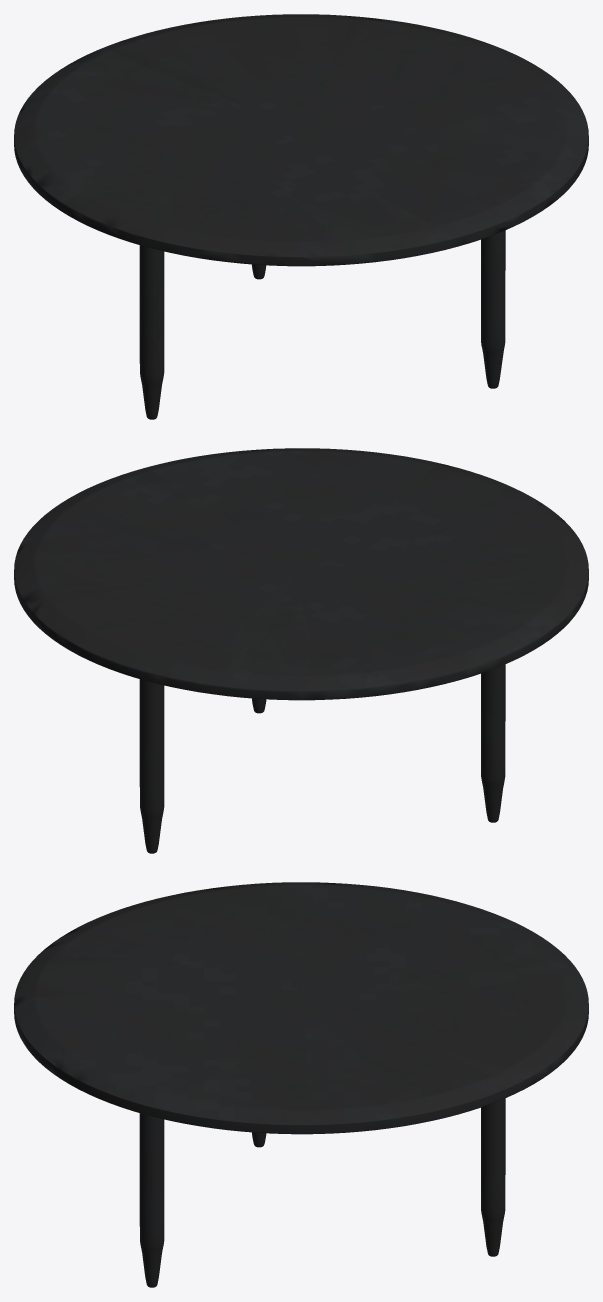
The model's file is B07TPNG61L.glb.
3 views of the same model, one above another, from view 1: azimuth 30°, elevation 25°; view 2: azimuth 150°, elevation 25°; view 3: azimuth 270°, elevation 25° (orthographic).
Visible parts, largest first — view 1: B07TPNG61L; view 2: B07TPNG61L; view 3: B07TPNG61L.
Part boxes in pixels (<box>): B07TPNG61L: <box>14,14,588,419</box>; B07TPNG61L: <box>14,448,588,853</box>; B07TPNG61L: <box>14,882,588,1287</box>.
Size of the model in its own units: 0.9 by 0.3999 by 0.9.
Materials: 1 (1 with a texture image).
